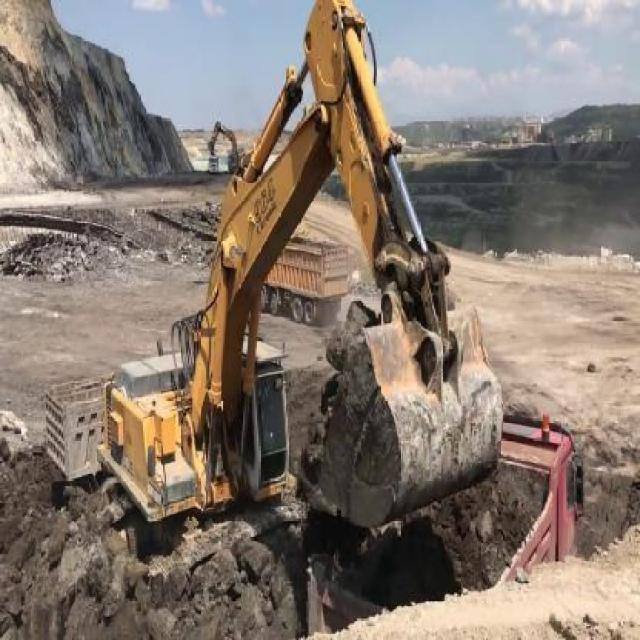dump_truck: (466, 407, 583, 598), (258, 236, 345, 324), (42, 374, 113, 481)
excavator: (102, 0, 506, 551)
